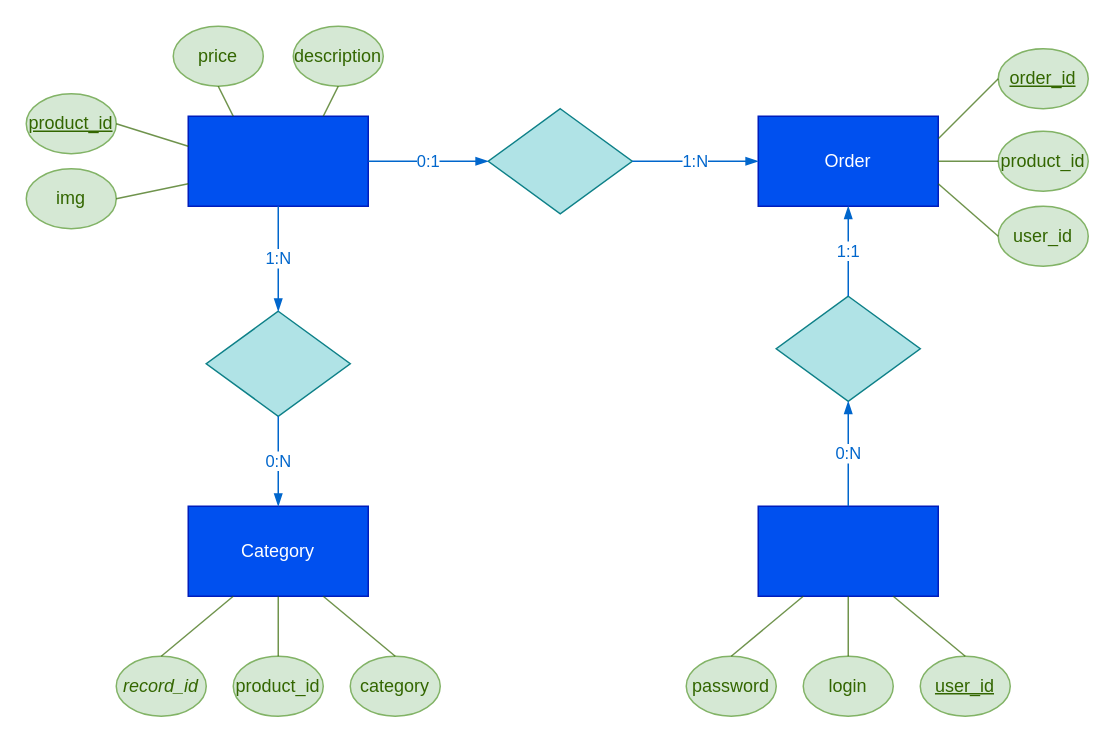
Image size: 1115x743. Some labels were removed from this diagram. The shapes that lost their labels are listed below. From the top down, each one's centre as x and y in pixels, then its label:
At point 277,160: "Picture".
At point 559,160: "included in".
At point 277,363: "has".
At point 847,348: "makes".
At point 847,550: "User".
